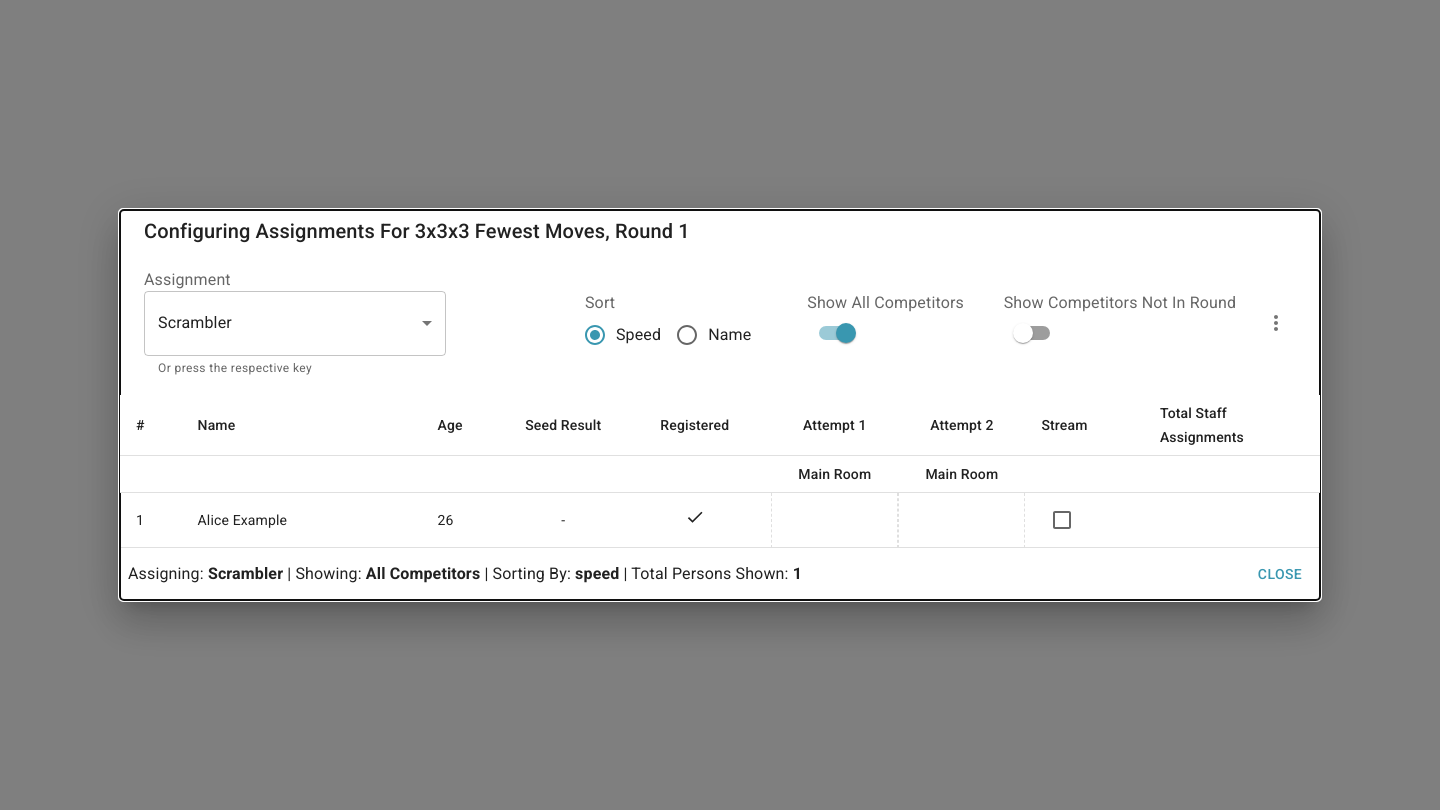
Test: ConfigureAssignmentsDialog distributed attempts › paints distributed attempt cells with the selected assignment type
The image size is (1440, 810).
Press j
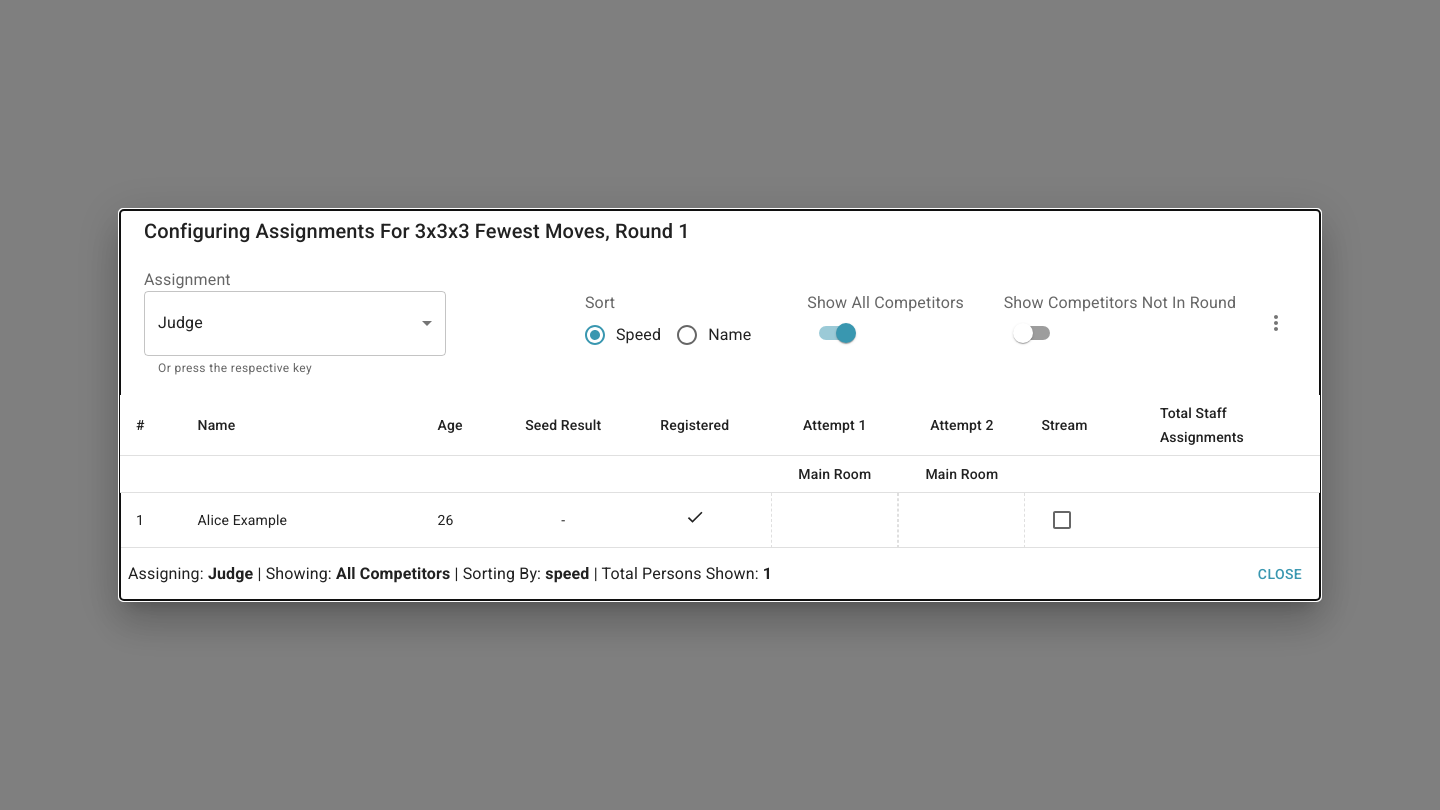
Press the mouse on the 6th cell at (835,520), box x1=771 y1=493 x2=898 y2=548
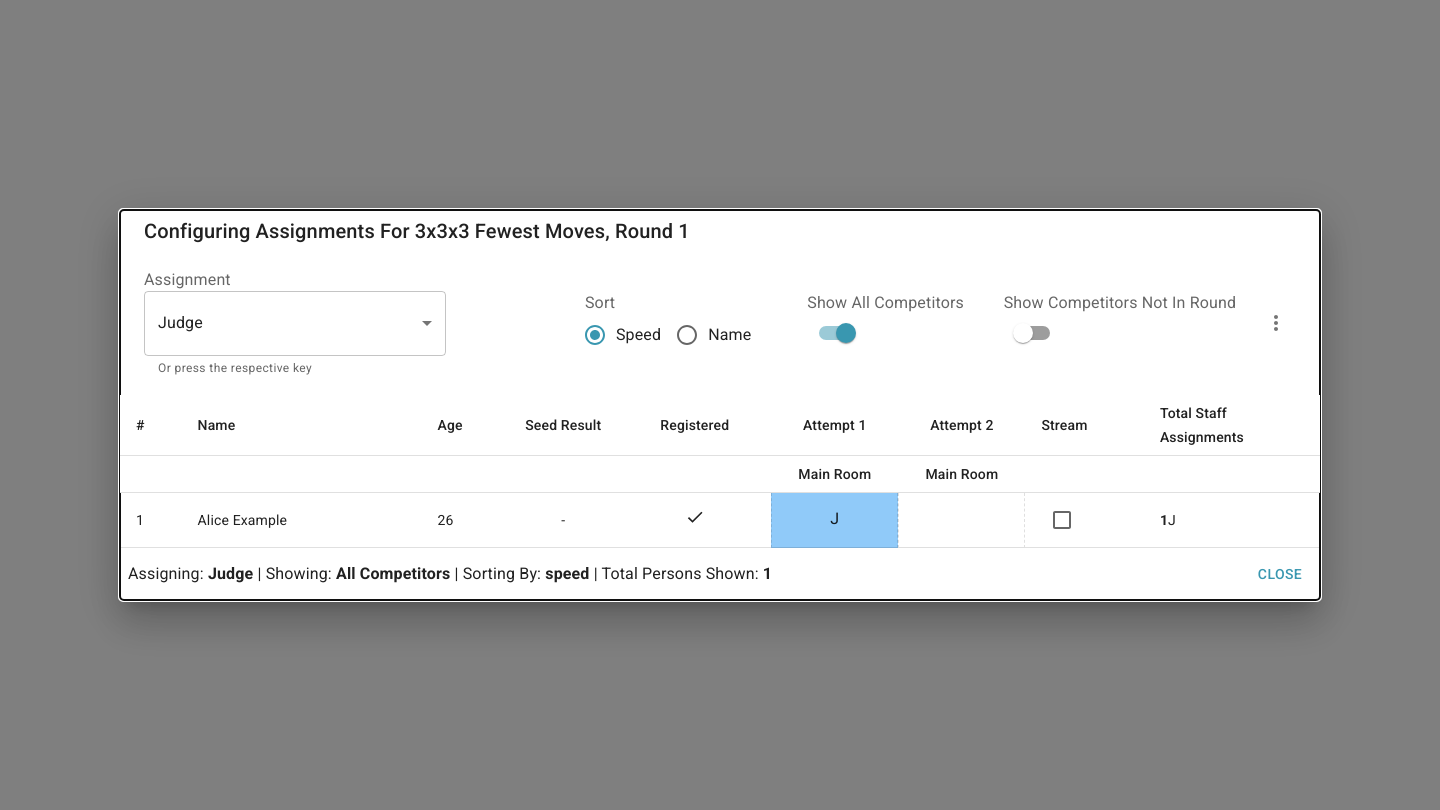
Now the cell "J" is shown, box x1=771 y1=493 x2=898 y2=548
